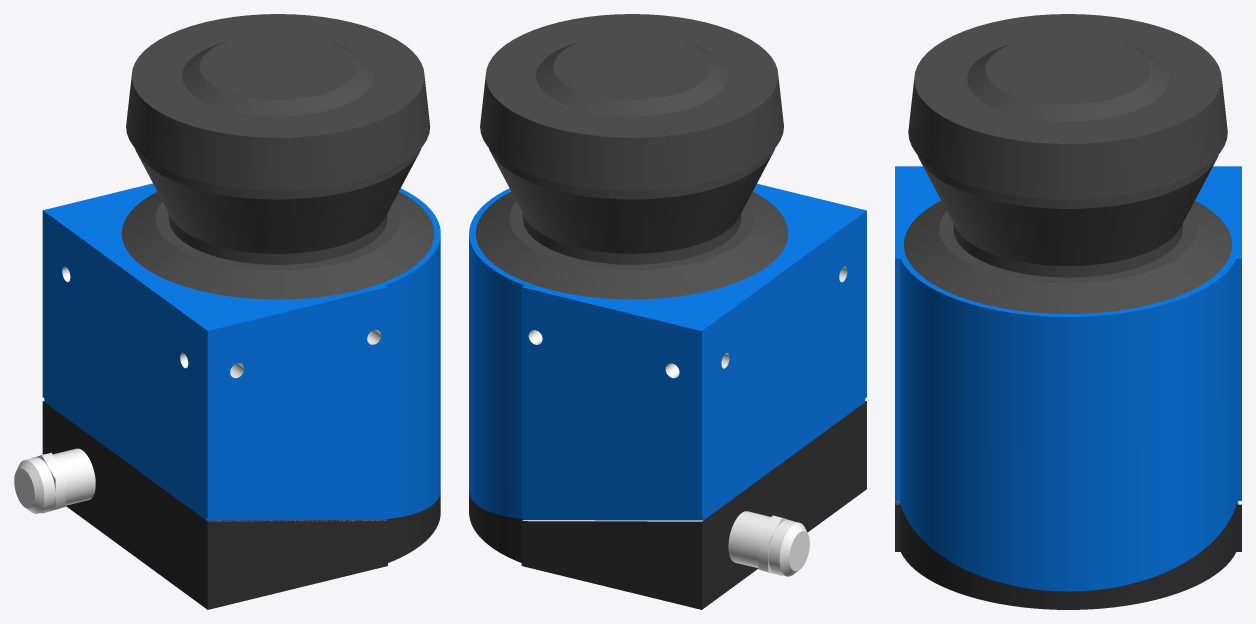
The model's file is SickLMS100.dae.
3 renders of one model, left to right at view 1: azimuth 30°, elevation 25°; view 2: azimuth 150°, elevation 25°; view 3: azimuth 270°, elevation 25°, orthographic. The views are drawn at different scales.
Visible parts, largest first — view 1: LMS100 (×3), group_2 (×5), group_1 (×3); view 2: LMS100 (×3), group_2 (×5), group_1 (×3); view 3: LMS100 (×2), group_2 (×5).
Boxes of the visible parts, box(x1,y1,x2,y2) form: LMS100 (×3): box(42, 183, 440, 609); group_2 (×5): box(121, 14, 434, 299); group_1 (×3): box(14, 448, 95, 513); LMS100 (×3): box(469, 183, 866, 609); group_2 (×5): box(475, 14, 788, 299); group_1 (×3): box(728, 511, 809, 576); LMS100 (×2): box(895, 166, 1241, 609); group_2 (×5): box(903, 14, 1232, 313).
Size of the model in its own units: 4.95 by 4.02 by 5.99.
